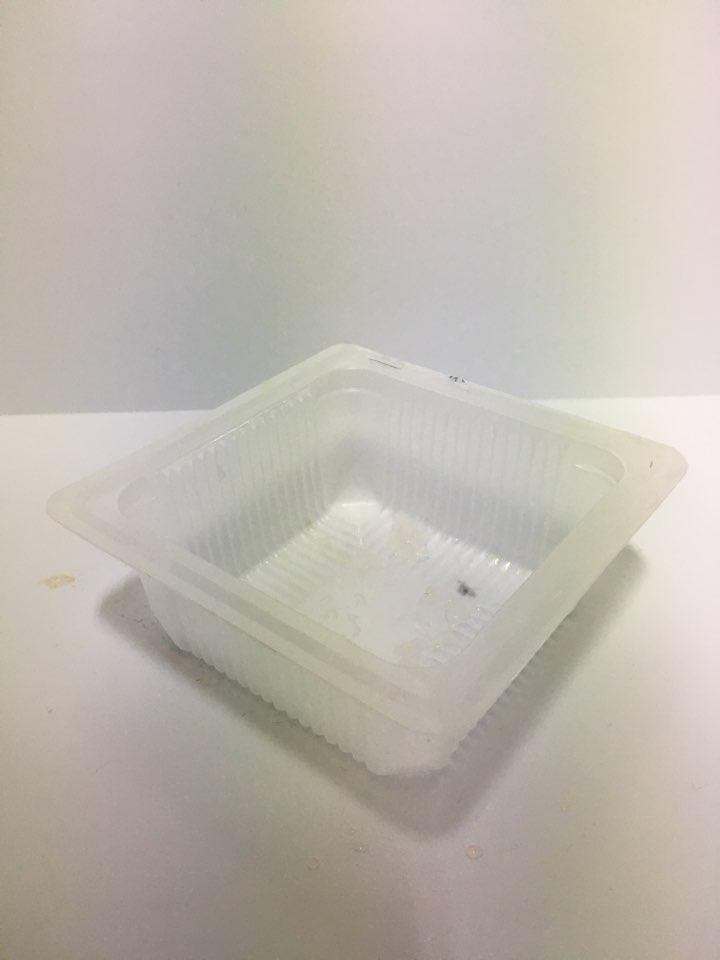bottle: (325, 332, 395, 781)
